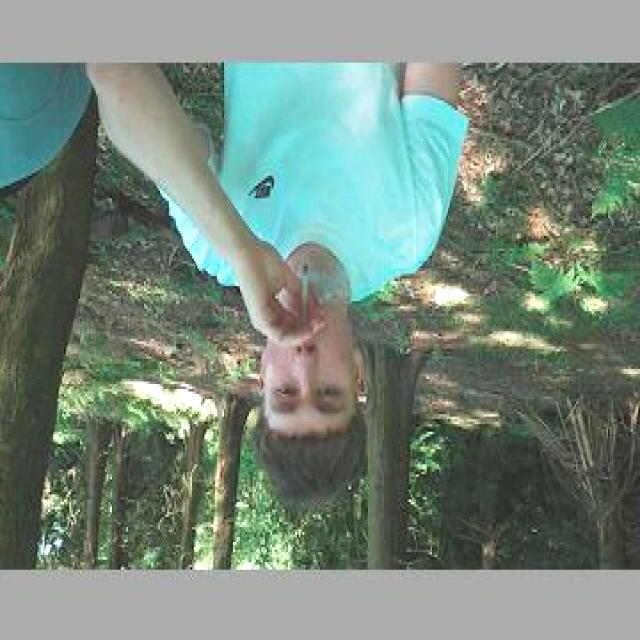smoke: (294, 244, 318, 342)
